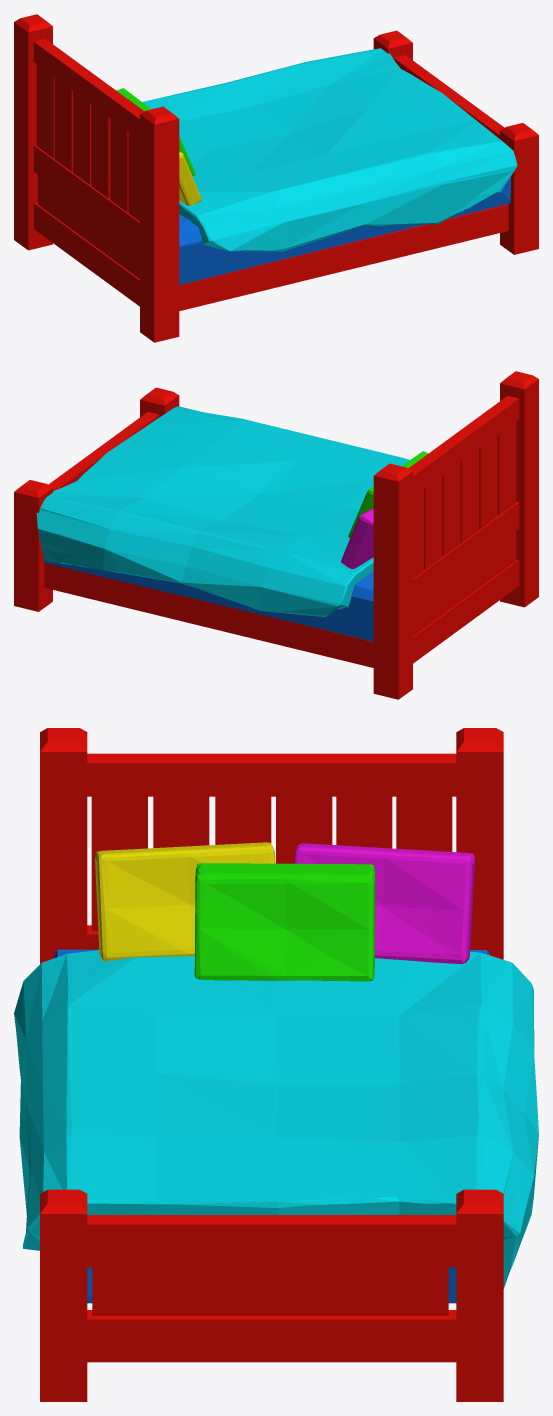
The model's file is Bed.fbx.
3 views of the same model, one above another, from view 1: azimuth 30°, elevation 25°; view 2: azimuth 150°, elevation 25°; view 3: azimuth 270°, elevation 25° (orthographic). The views are drawn at different scales.
Parts seen in each view (by area): view 1: Cube.434; view 2: Cube.434; view 3: Cube.434.
Part boxes in pixels (<box>): Cube.434: <box>14,14,538,342</box>; Cube.434: <box>14,371,538,699</box>; Cube.434: <box>14,728,538,1401</box>.
Bounding box in the file's own units: 3102 × 1714 × 2221.
